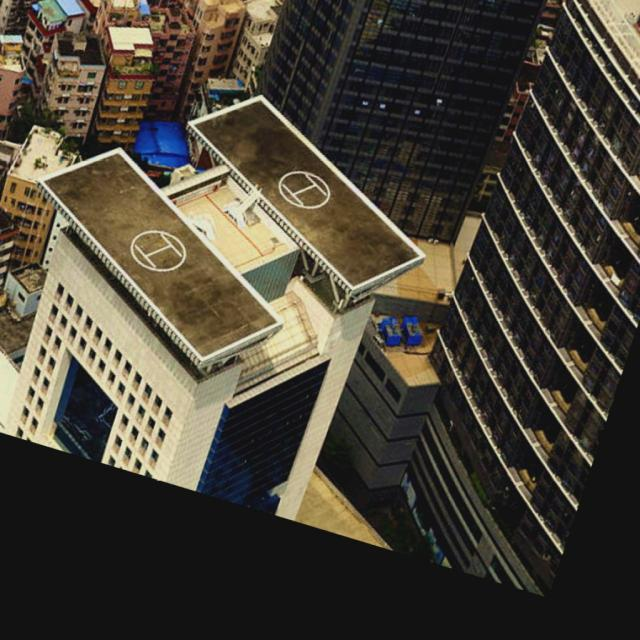helipad: (127, 228, 187, 273), (276, 168, 332, 210)
